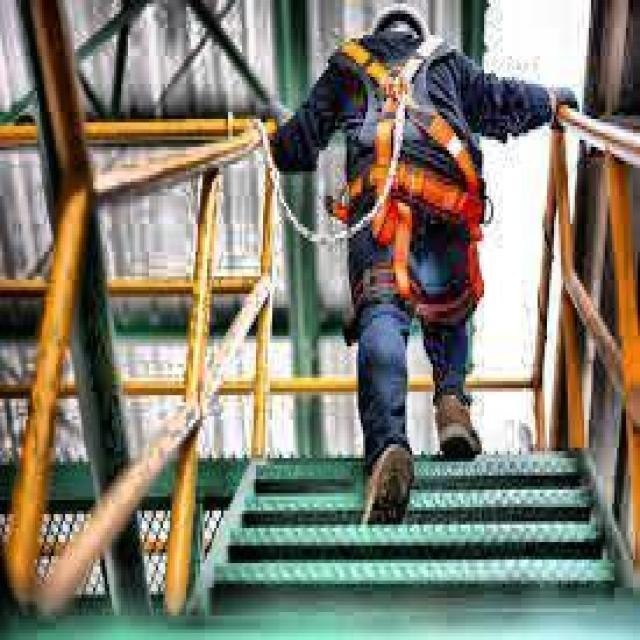Arnes_seguridad: (327, 40, 474, 252)
